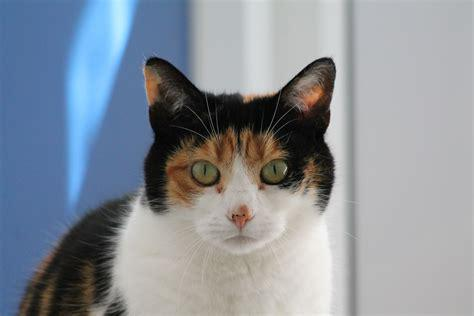cat: (19, 57, 337, 316)
